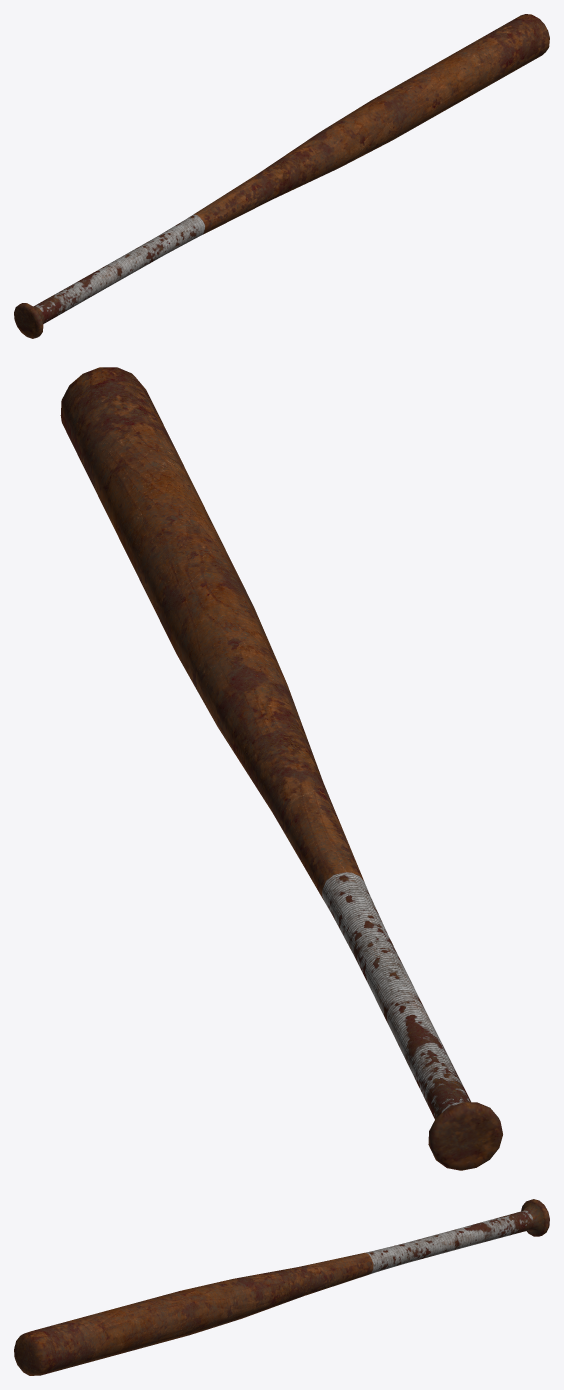
File: Anim_idle_bate_objetos.0043.obj
3 views of the same model, one above another, from view 1: azimuth 90°, elevation 25°; view 2: azimuth 150°, elevation 25°; view 3: azimuth 270°, elevation 25° (orthographic). The views are drawn at different scales.
Parts seen in each view (by area): view 1: Bate1; view 2: Bate1; view 3: Bate1.
Part boxes in pixels (bbox=[...]): Bate1: bbox=[14, 14, 549, 338]; Bate1: bbox=[60, 367, 502, 1170]; Bate1: bbox=[14, 1199, 549, 1375].
Bounding box in the file's own units: 3.91 × 0.9097 × 3.94.
